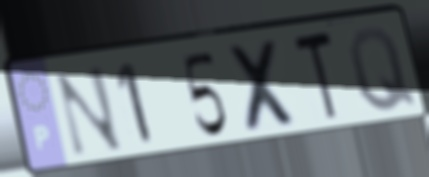1: (112, 59, 156, 147)
5: (177, 48, 230, 138)
N: (51, 62, 127, 161)
Q: (345, 24, 420, 116)
T: (290, 27, 341, 127)
X: (222, 36, 305, 136)
